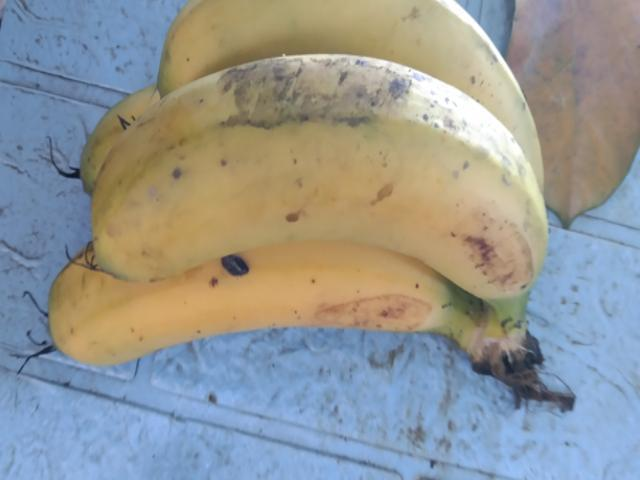ripe: (65, 34, 563, 306)
